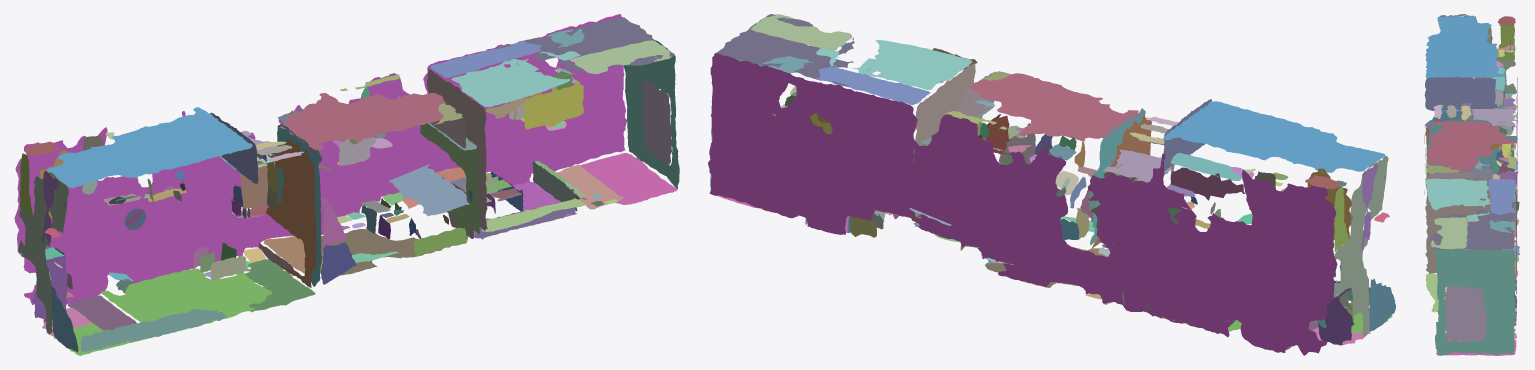
Rendered from pigs_scene078.glb.
The picture shows the model from 3 angles, left to right: view 1: azimuth 30°, elevation 25°; view 2: azimuth 150°, elevation 25°; view 3: azimuth 270°, elevation 25°; orthographic projection. The views are drawn at different scales.
Visible parts, largest first — view 1: world; view 2: world; view 3: world.
Part boxes in pixels (bbox=[...]): world: bbox=[14, 14, 679, 355]; world: bbox=[708, 14, 1395, 355]; world: bbox=[1424, 14, 1519, 355].
Bounding box in the file's own units: 16.54 × 4.47 × 2.92.
